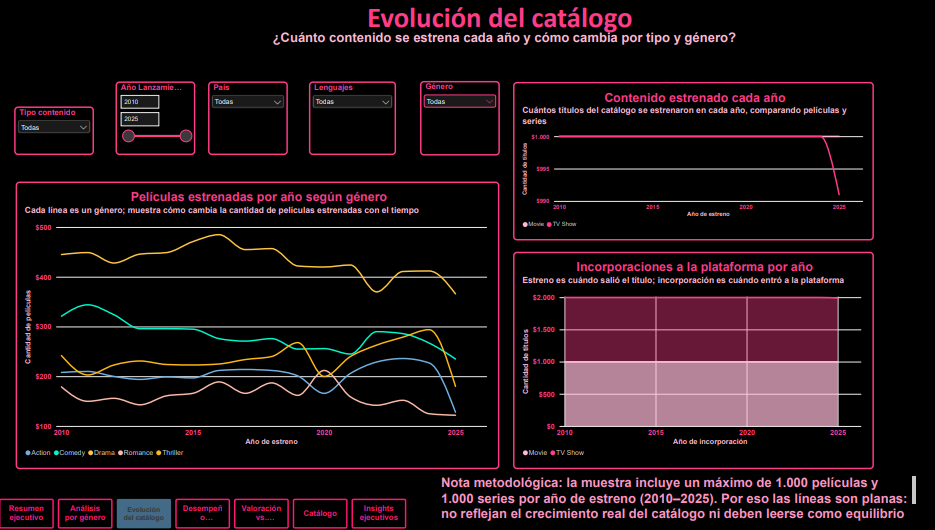

This screenshot's page, from the dashboard's own definition file:
{"tool":"powerbi","page":{"name":"Evolución del catálogo","canvas":[1920,1080],"ordinal":2},"visuals":[{"type":"textbox","box":[424.9,0,1196,85],"z":0},{"type":"textbox","box":[558.7,61.6,1272.5,46.7],"z":1000},{"type":"slicer","fields":{"Values":["catalogo.content_type"]},"box":[31.4,218.4,162.7,99.2],"z":2000},{"type":"slicer","fields":{"Values":["catalogo.release_year"]},"box":[237.5,167.4,163,150],"z":3000},{"type":"slicer","fields":{"Values":["catalogo.pais_principal"]},"box":[426.6,167.4,163,150],"z":4000},{"type":"slicer","fields":{"Values":["catalogo.language"]},"box":[632.6,167.4,178,150],"z":5000},{"type":"slicer","fields":{"Values":["catalogo.genero"]},"box":[862.5,167.8,163,150],"z":6000},{"type":"lineChart","title":"Contenido estrenado cada año","fields":{"Category":["catalogo.release_year"],"Series":["catalogo.content_type"],"Y":["catalogo.Contenidos"]},"box":[1051.6,167.8,737.2,322.9],"z":7000},{"type":"lineChart","title":"Películas estrenadas por año según género","fields":{"Category":["catalogo.release_year"],"Series":["catalogo.genero"],"Y":["catalogo.Películas"]},"box":[34,418.5,828.5,554.5],"z":8000},{"type":"stackedAreaChart","title":"Incorporaciones a la plataforma por año","fields":{"Category":["catalogo.anio_incorporacion"],"Series":["catalogo.content_type"],"Y":["catalogo.Contenidos"]},"box":[943.2,529,698.9,444],"z":9000},{"type":"actionButton","box":[1801.9,1.9,100,40],"z":9001},{"type":"actionButton","box":[0,0,100,40],"z":9002}]}

Visuals, with their boxes on the page's 1920x1080 design canvas (x1, y1, x2, y2). These are canvas units, not pixel positions in the 935x530 screenshot, which may show the page scaled, cropped or inside an application window:
textbox: (left=425, top=0, right=1621, bottom=85)
textbox: (left=559, top=62, right=1831, bottom=108)
slicer - catalogo.content_type: (left=31, top=218, right=194, bottom=318)
slicer - catalogo.release_year: (left=238, top=167, right=400, bottom=317)
slicer - catalogo.pais_principal: (left=427, top=167, right=590, bottom=317)
slicer - catalogo.language: (left=633, top=167, right=811, bottom=317)
slicer - catalogo.genero: (left=862, top=168, right=1026, bottom=318)
"Contenido estrenado cada año" lineChart: (left=1052, top=168, right=1789, bottom=491)
"Películas estrenadas por año según género" lineChart: (left=34, top=418, right=862, bottom=973)
"Incorporaciones a la plataforma por año" stackedAreaChart: (left=943, top=529, right=1642, bottom=973)
actionButton: (left=1802, top=2, right=1902, bottom=42)
actionButton: (left=0, top=0, right=100, bottom=40)
